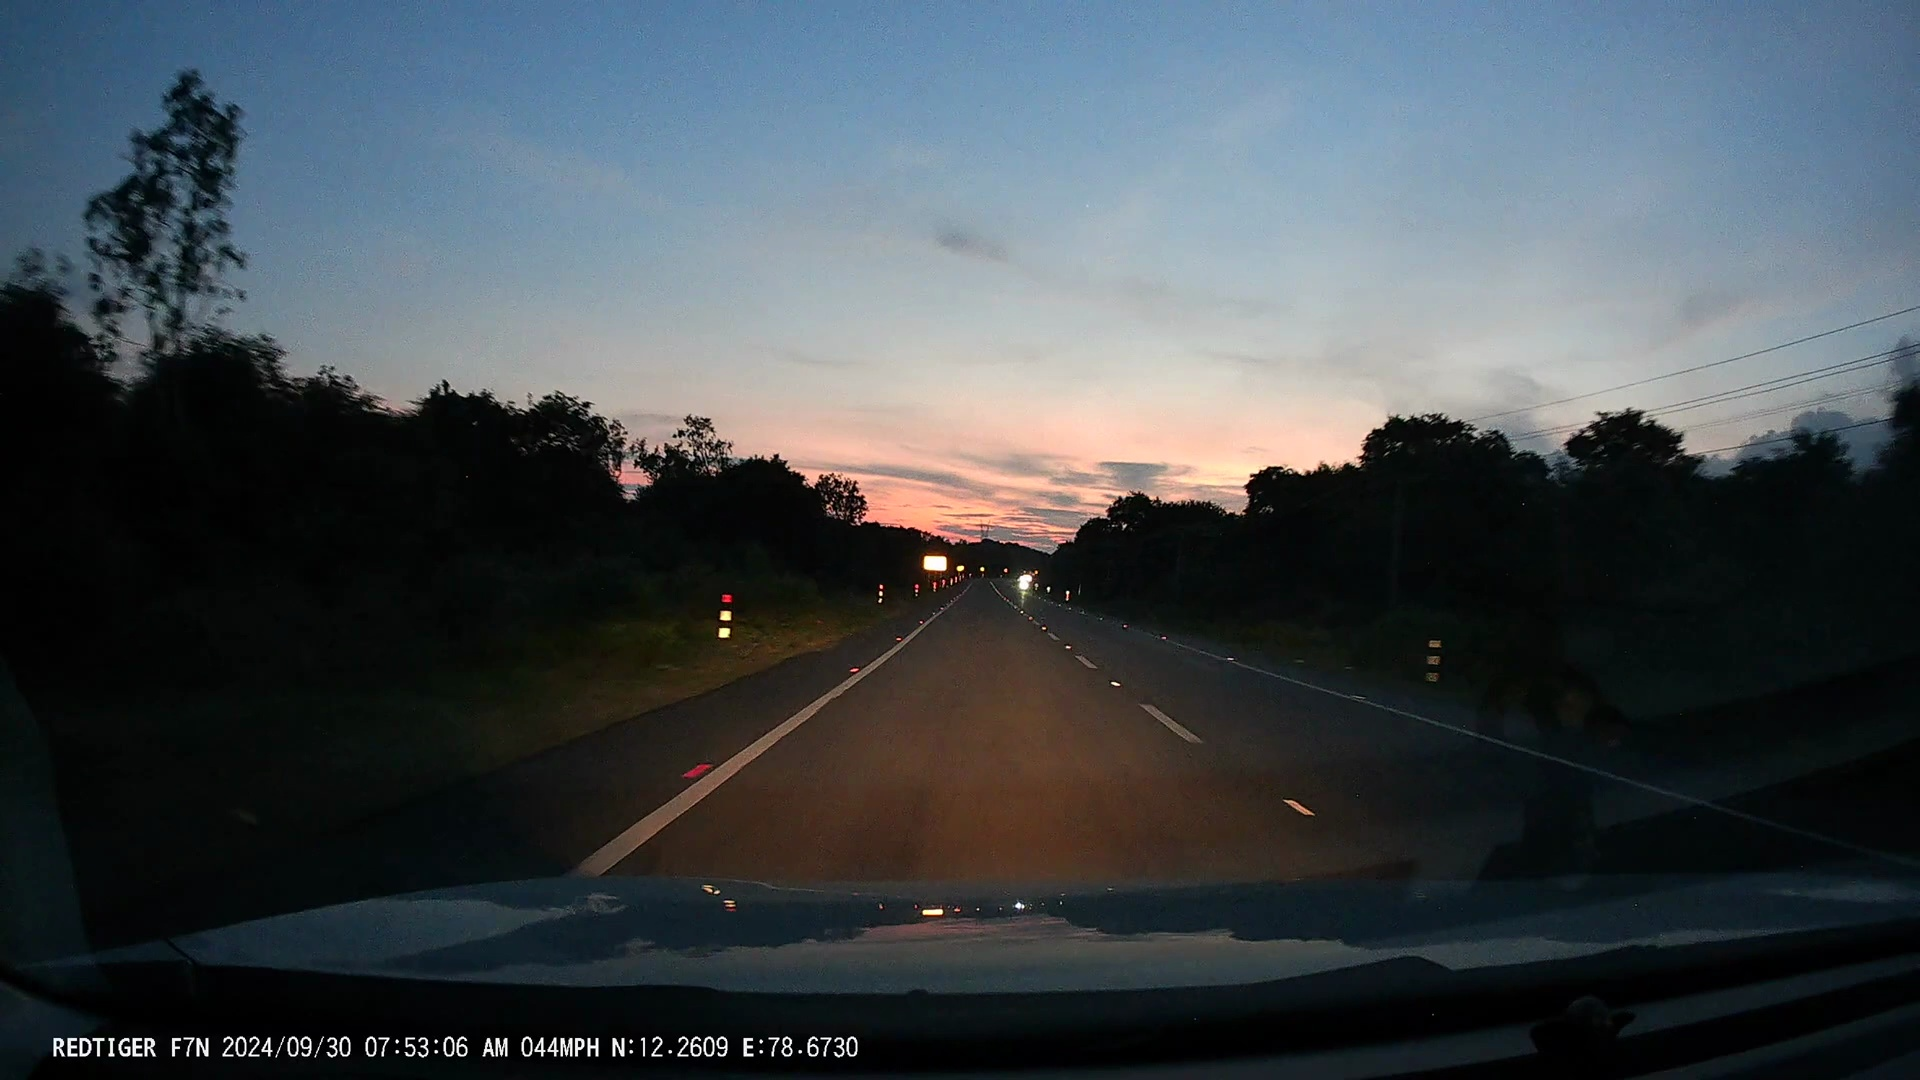headlight: (1014, 575, 1033, 592)
two wheeler: (1007, 563, 1042, 603)
